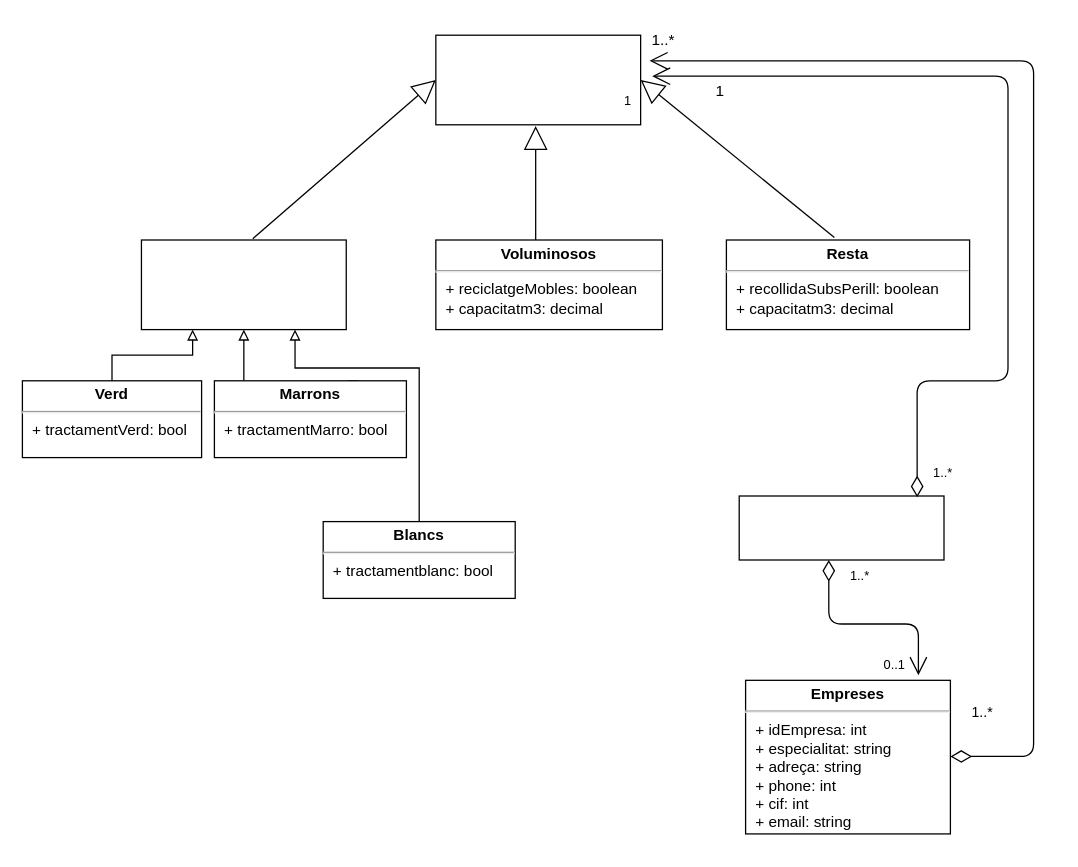
The diagram is 1078 pixels wide and 867 high, and some of its shapes have lost their labels. Each missing label, with the centre of its shape:
Abocadors + idAbocadors: int + adreçaAbocadors: string: the point at 538,79
Municipis + idMunicipi: int: the point at 841,527
Vidre + capacitatKg: decimal: the point at 243,284
